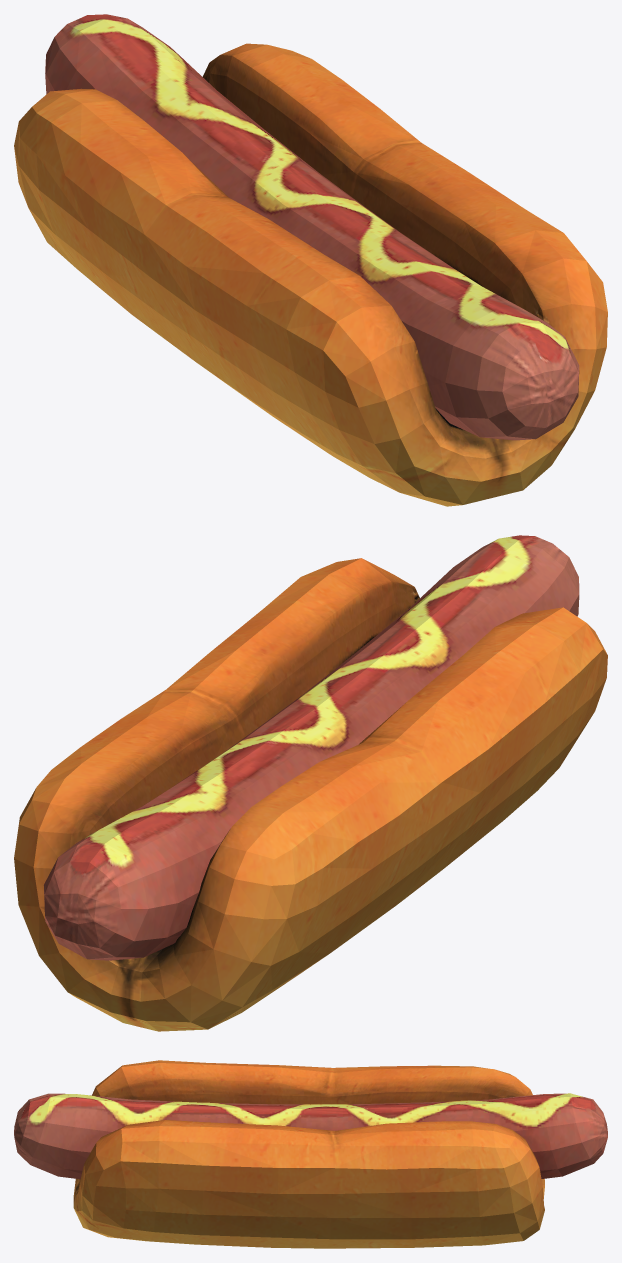
The model's file is hotdog.obj.
The picture shows the model from 3 angles, top to bottom: view 1: azimuth 30°, elevation 25°; view 2: azimuth 150°, elevation 25°; view 3: azimuth 270°, elevation 25°; orthographic projection. The views are drawn at different scales.
Parts seen in each view (by area): view 1: hotdog_reference; view 2: hotdog_reference; view 3: hotdog_reference.
Part boxes in pixels (left/top/right/bottom): hotdog_reference: left=14, top=14, right=607, bottom=506; hotdog_reference: left=14, top=535, right=607, bottom=1031; hotdog_reference: left=14, top=1060, right=607, bottom=1248.
Size of the model in its own units: 5 by 3.69 by 13.57.
Materials: 1 (1 with a texture image).
